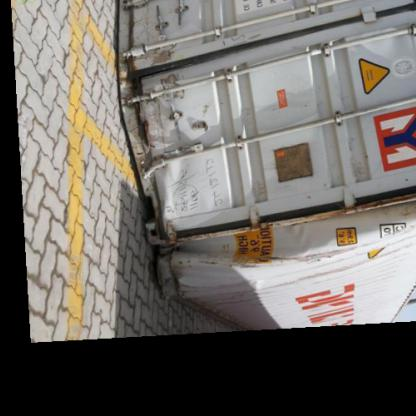Damage: (164, 211, 372, 278), (118, 32, 198, 148), (160, 156, 230, 212), (338, 94, 372, 198)
